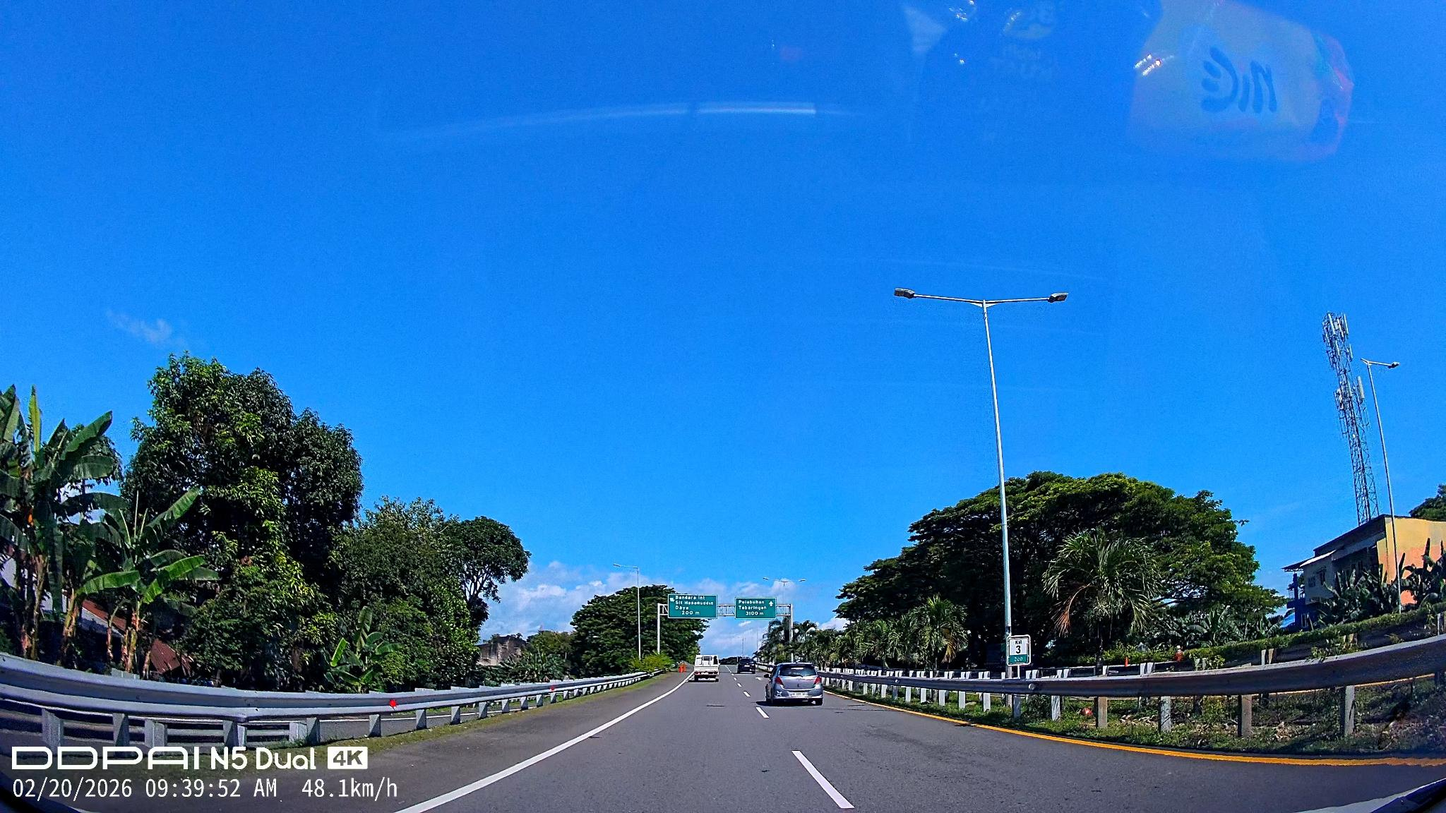rambu_teks: (667, 594, 717, 620), (735, 597, 777, 620)
